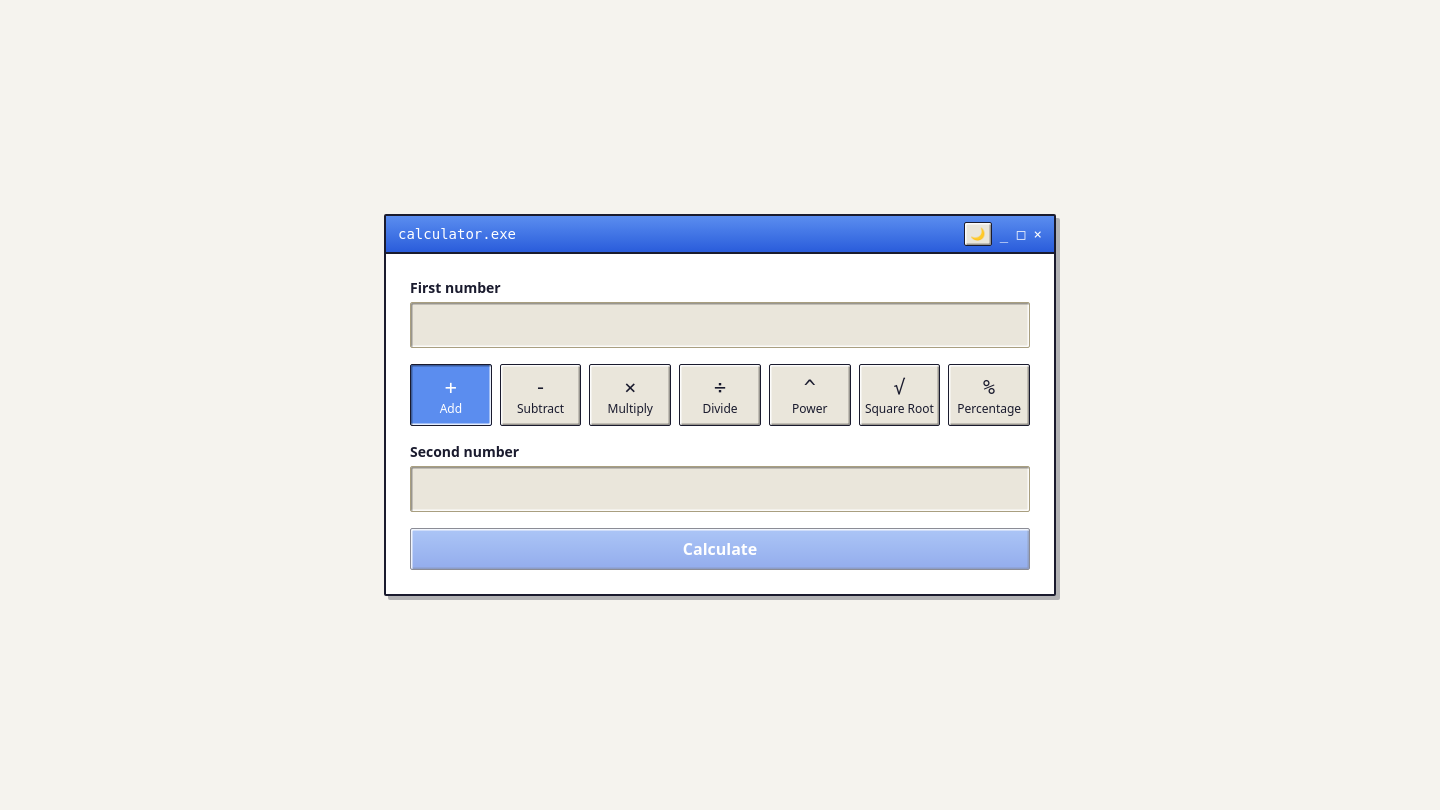
App › switches the theme when the toggle is clicked
The image size is (1440, 810).
Click the button named "Switch to dark theme" at x=978, y=234, box [964,222,992,246]
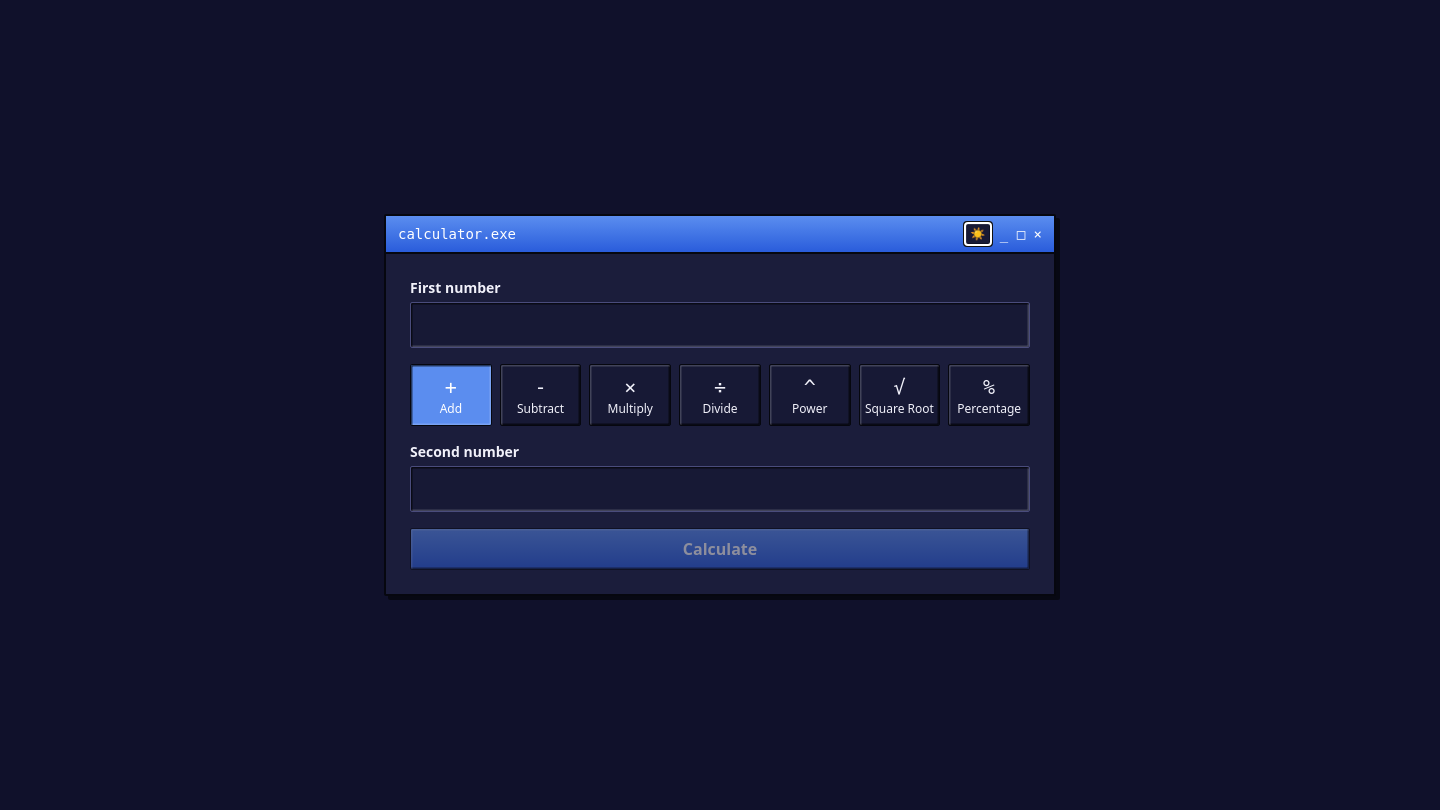
Expected: the button named "Switch to light theme" is shown, [964,222,992,246]
